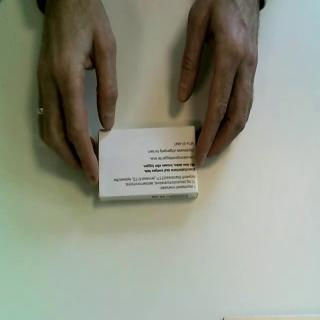oxycontin15mg: (98, 125, 200, 203)
